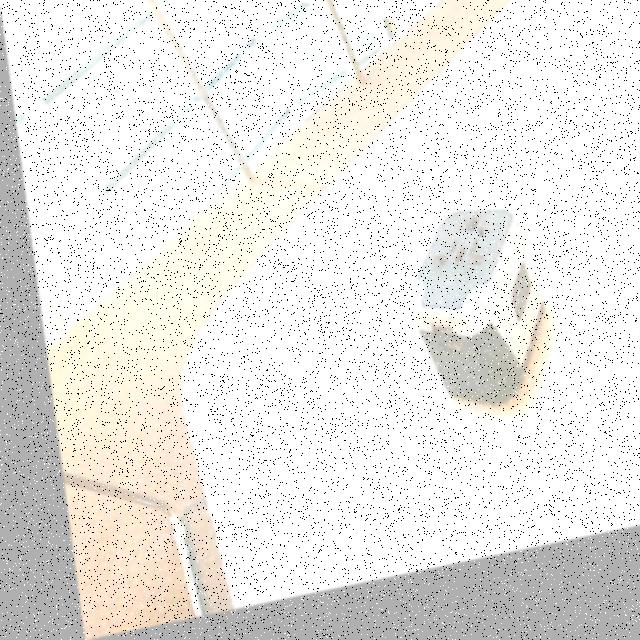adapter: (388, 211, 542, 436)
